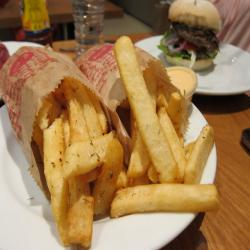burger: (162, 2, 222, 73)
fries: (40, 95, 193, 208)
